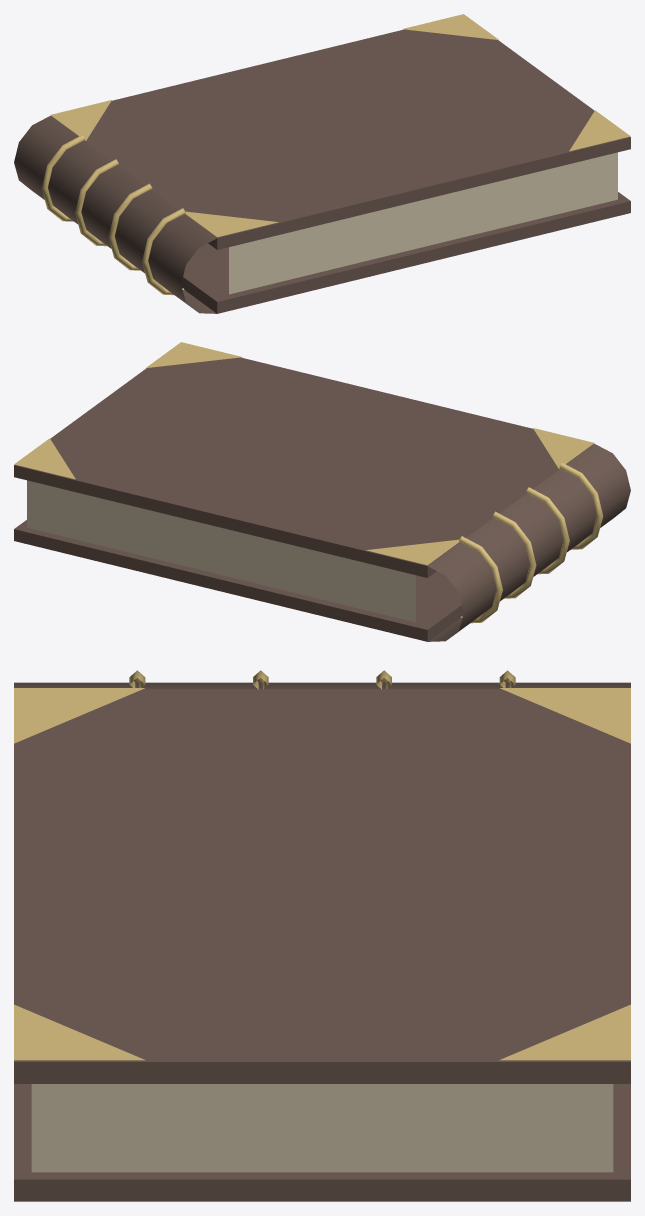
Rendered from BookClosedSmall.fbx.
3 renders of one model, top to bottom at view 1: azimuth 30°, elevation 25°; view 2: azimuth 150°, elevation 25°; view 3: azimuth 270°, elevation 25°, orthographic. The views are drawn at different scales.
Visible parts, largest first — view 1: BookClosedSmall; view 2: BookClosedSmall; view 3: BookClosedSmall.
Part boxes in pixels (x1,y1,x2,y2): BookClosedSmall: [14, 14, 630, 313]; BookClosedSmall: [14, 342, 630, 641]; BookClosedSmall: [14, 670, 630, 1201].
Bounding box in the file's own units: 0.1586 × 0.0292 × 0.1008.
